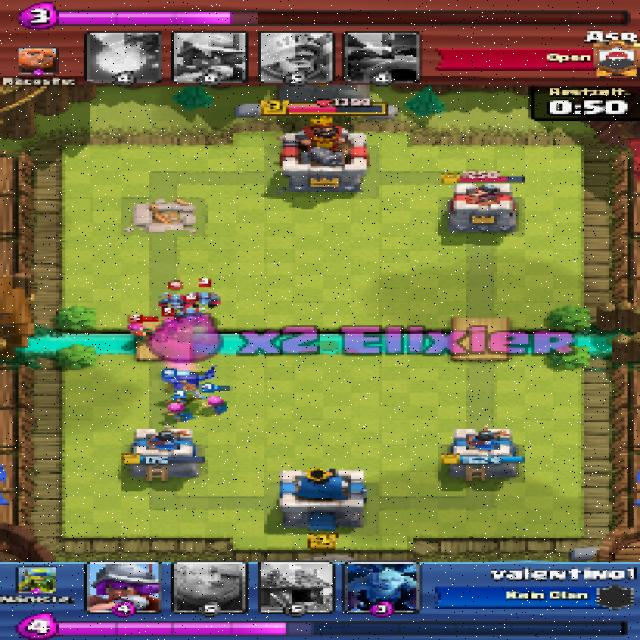Enemy-Archer: (125, 324, 154, 342)
Enemy-Minion: (165, 297, 186, 310), (178, 310, 200, 322), (198, 292, 216, 306)
Player-Archer: (162, 403, 194, 420), (208, 397, 230, 414)
Player-MiniPEKKA: (164, 368, 209, 388)
